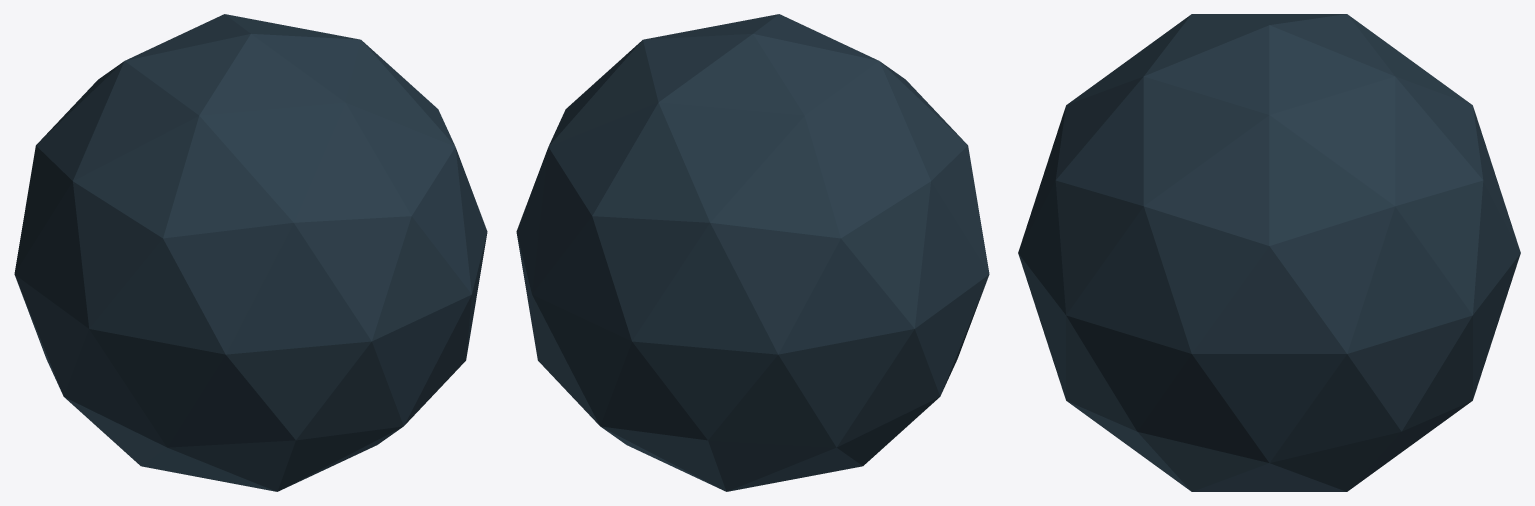
File: lava_planet.glb
The picture shows the model from 3 angles, left to right: view 1: azimuth 30°, elevation 25°; view 2: azimuth 150°, elevation 25°; view 3: azimuth 270°, elevation 25°; orthographic projection. The views are drawn at different scales.
Parts seen in each view (by area): view 1: lava_planet; view 2: lava_planet; view 3: lava_planet.
Boxes of the visible parts, box(x1,y1,x2,y2) form: lava_planet: box(14, 14, 487, 491); lava_planet: box(516, 14, 989, 491); lava_planet: box(1018, 14, 1520, 491).
Size of the model in its own units: 1.9 by 2 by 2.
